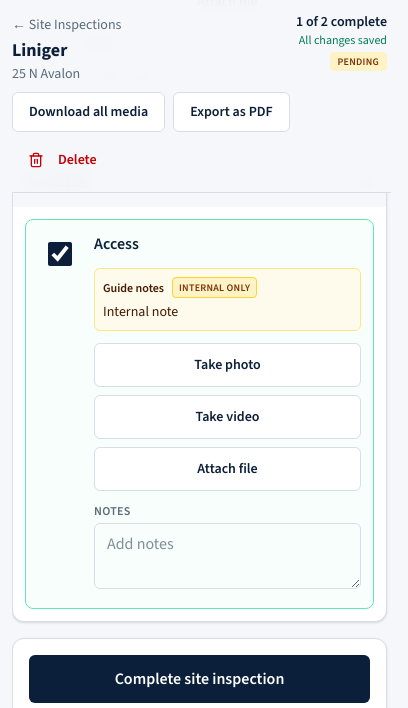
Test: complete site inspection UI › blocks complete when uploads failed
(page scrolled)
Click the button "Complete site inspection" at (200, 679), box 29,655 -> 370,703
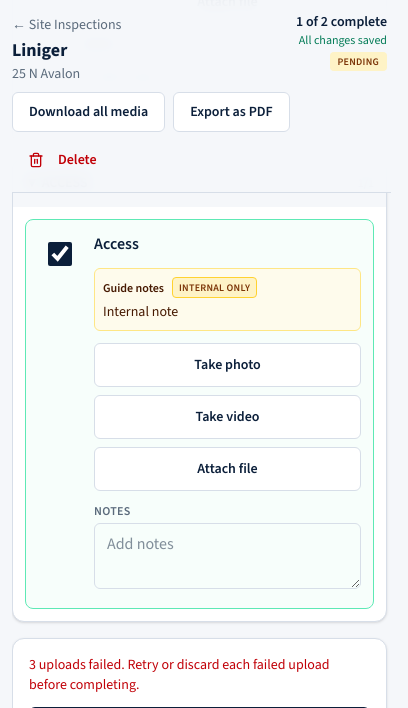
Check: the text "3 uploads failed" is shown, box 29,655 -> 330,694
